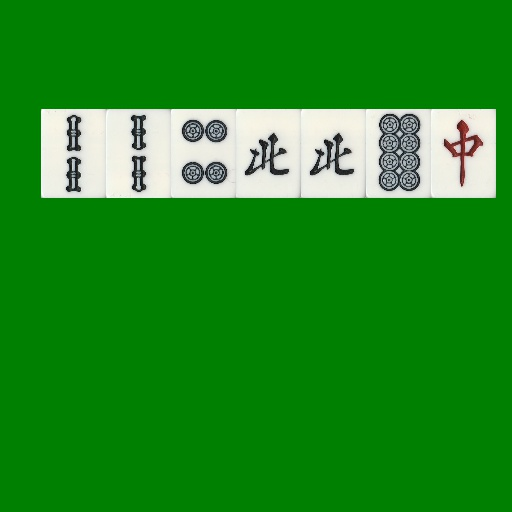2s: (41, 109, 106, 198), (106, 109, 171, 198)
4p: (171, 109, 236, 198)
8p: (366, 109, 431, 198)
north: (236, 109, 301, 198), (301, 109, 366, 198)
tyun: (431, 109, 496, 198)
